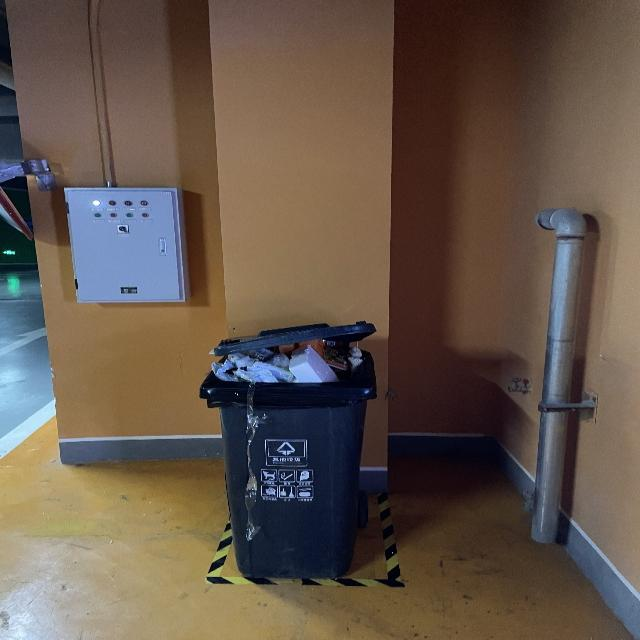overflow: (197, 320, 376, 577)
